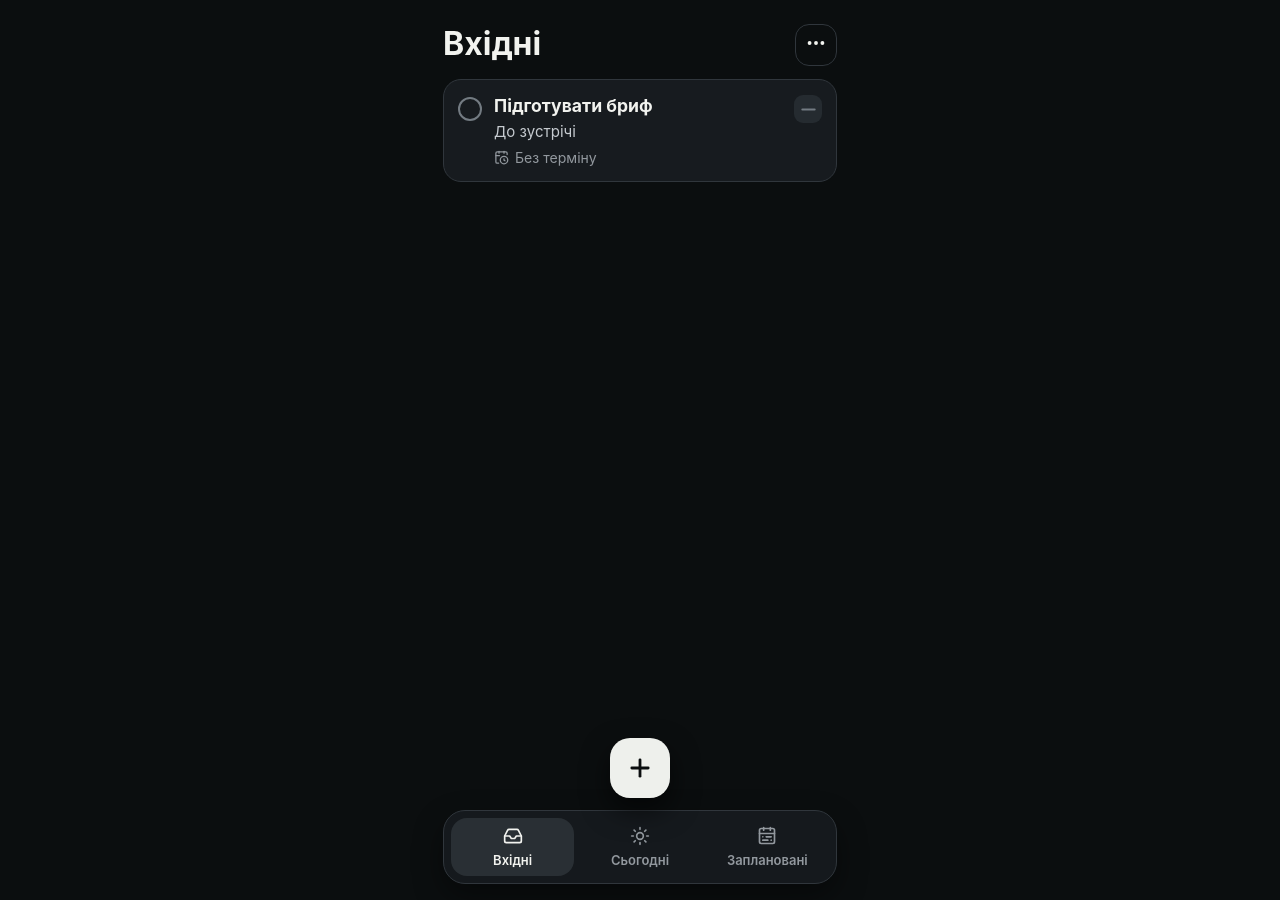
Test case: edits a task from its card in the shared composer
The width and height of the screenshot is (1280, 900).
Click the button with aria-label "Редагувати «Підготувати бриф»" at [573, 106], box [494,95,782,166]
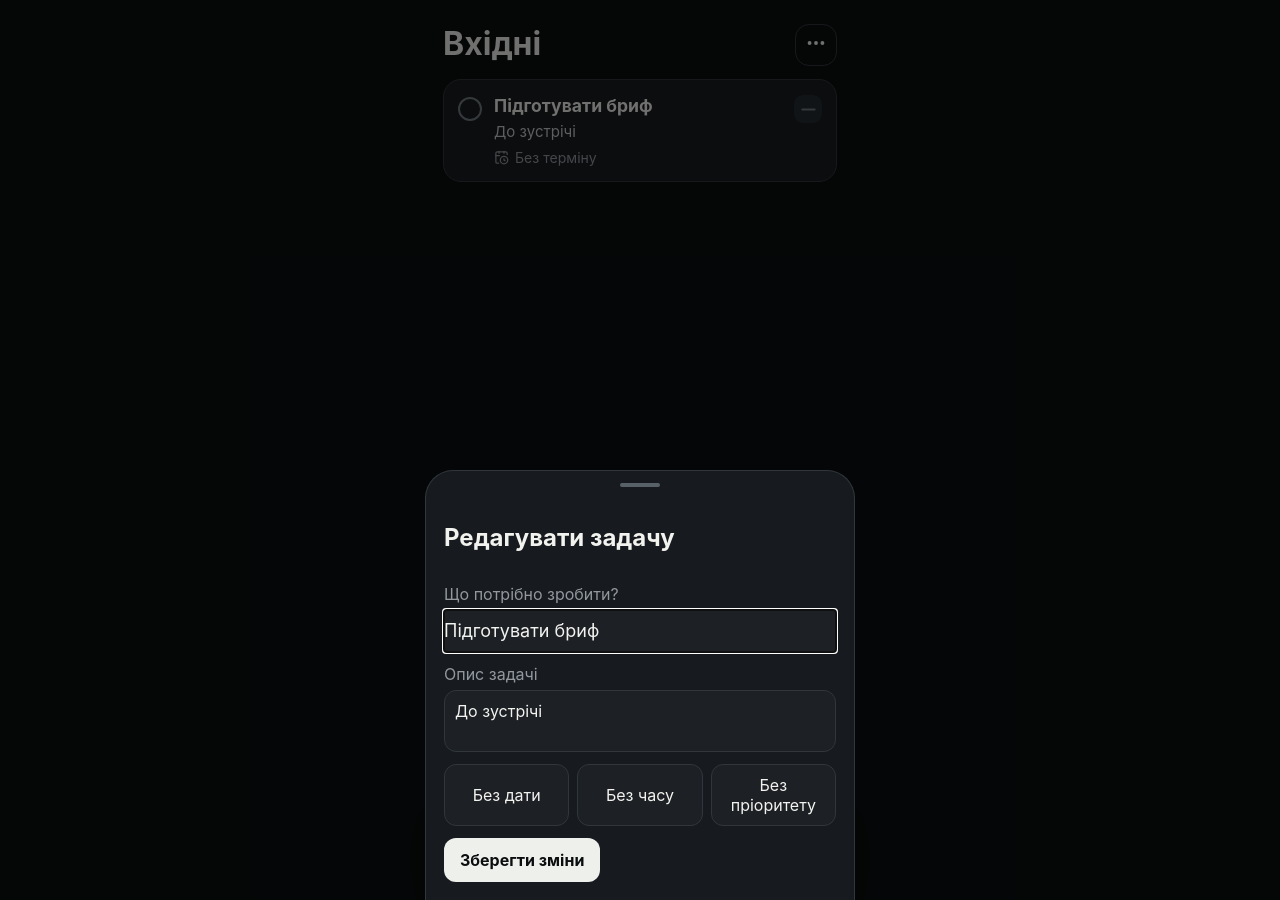
Now the dialog "Редагувати задачу" is shown, box [425,470,855,899]
Now the text box labelled "Опис задачі" holds "До зустрічі", box [444,690,836,752]
Replace the text in the field labelled "Що потрібно зробити?" with "Оновити бриф" at [640, 631], box [444,610,836,652]
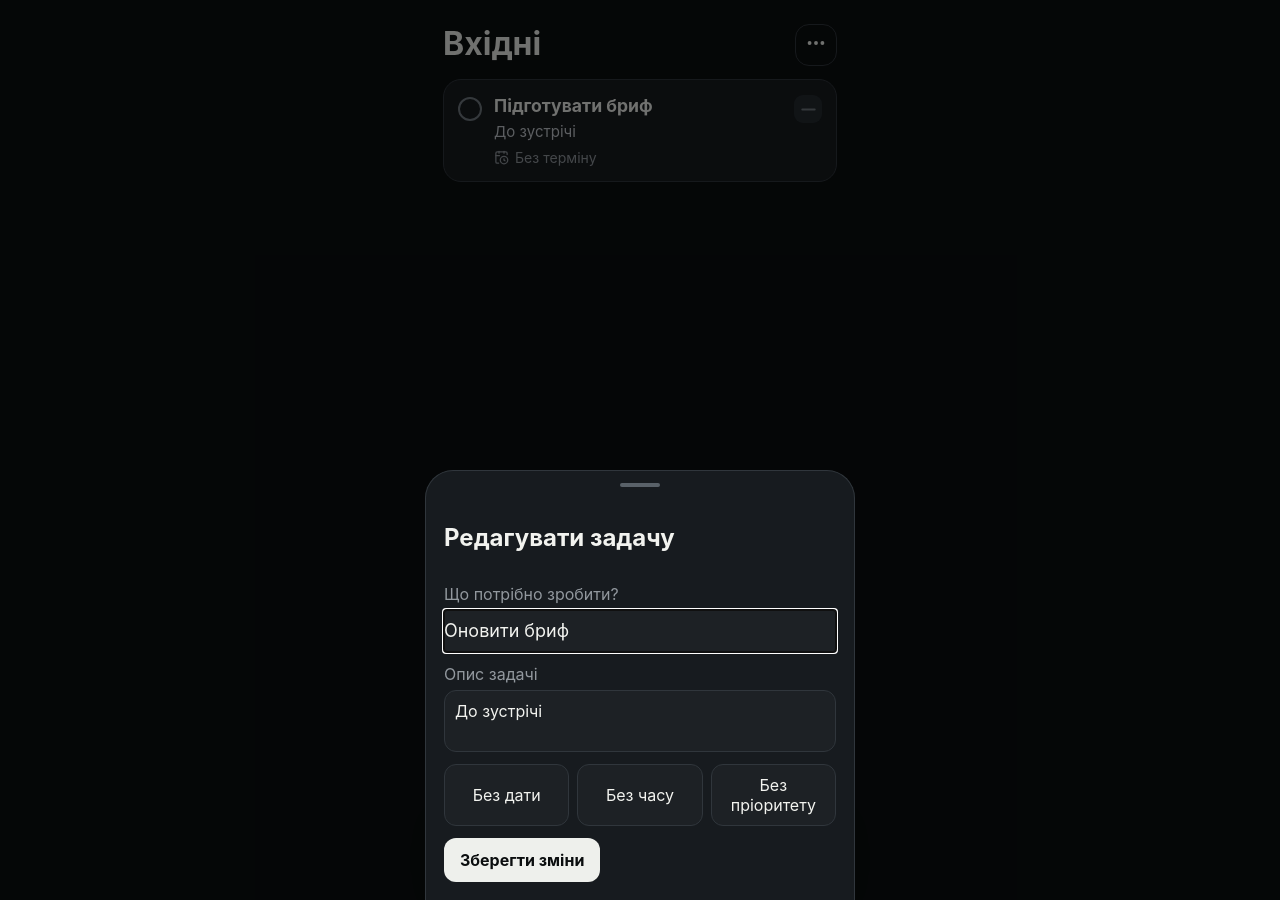
Click the button "Зберегти зміни" at [522, 860], box [444,838,600,882]
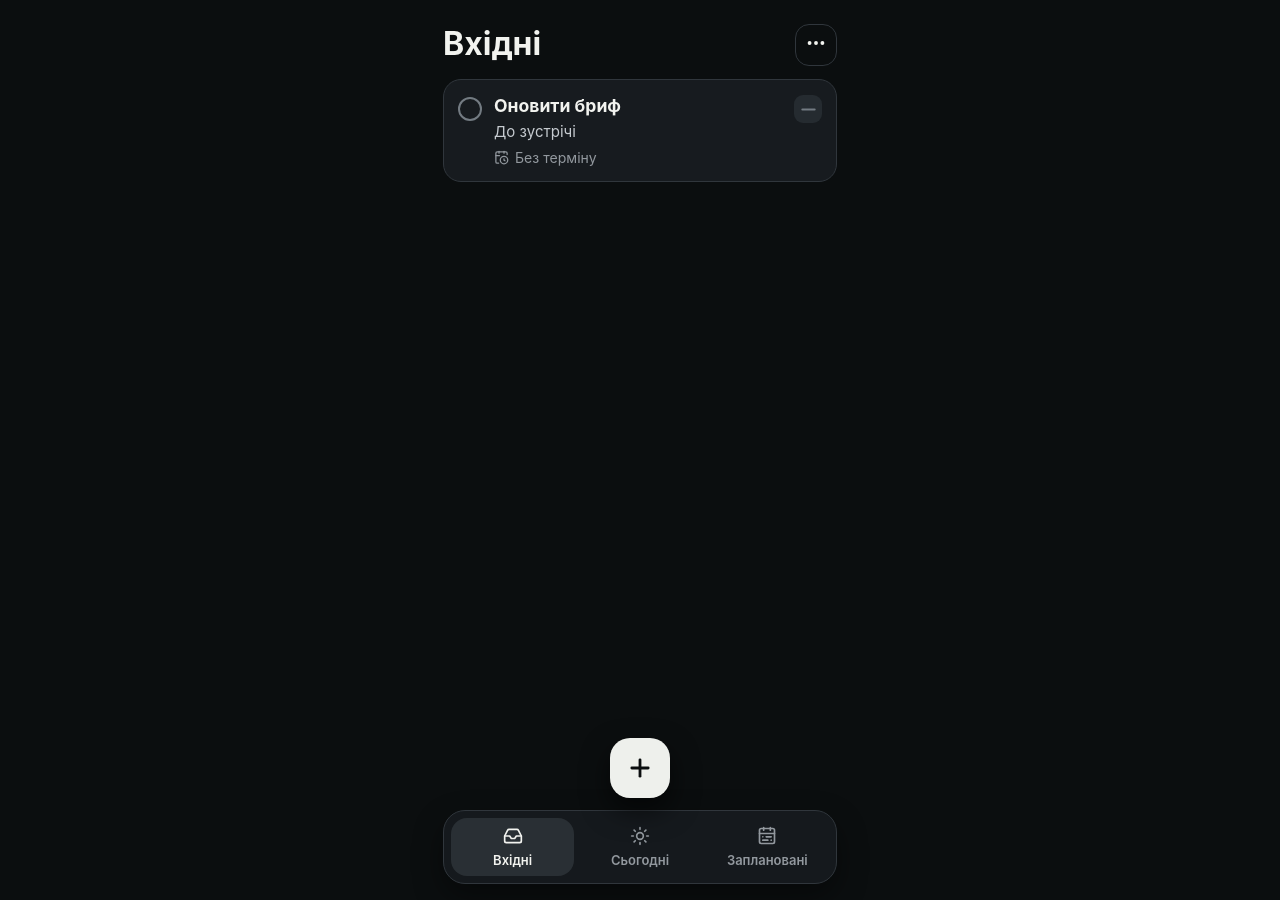
Now the button with aria-label "Редагувати «Оновити бриф»" is shown, box [494,95,782,166]
